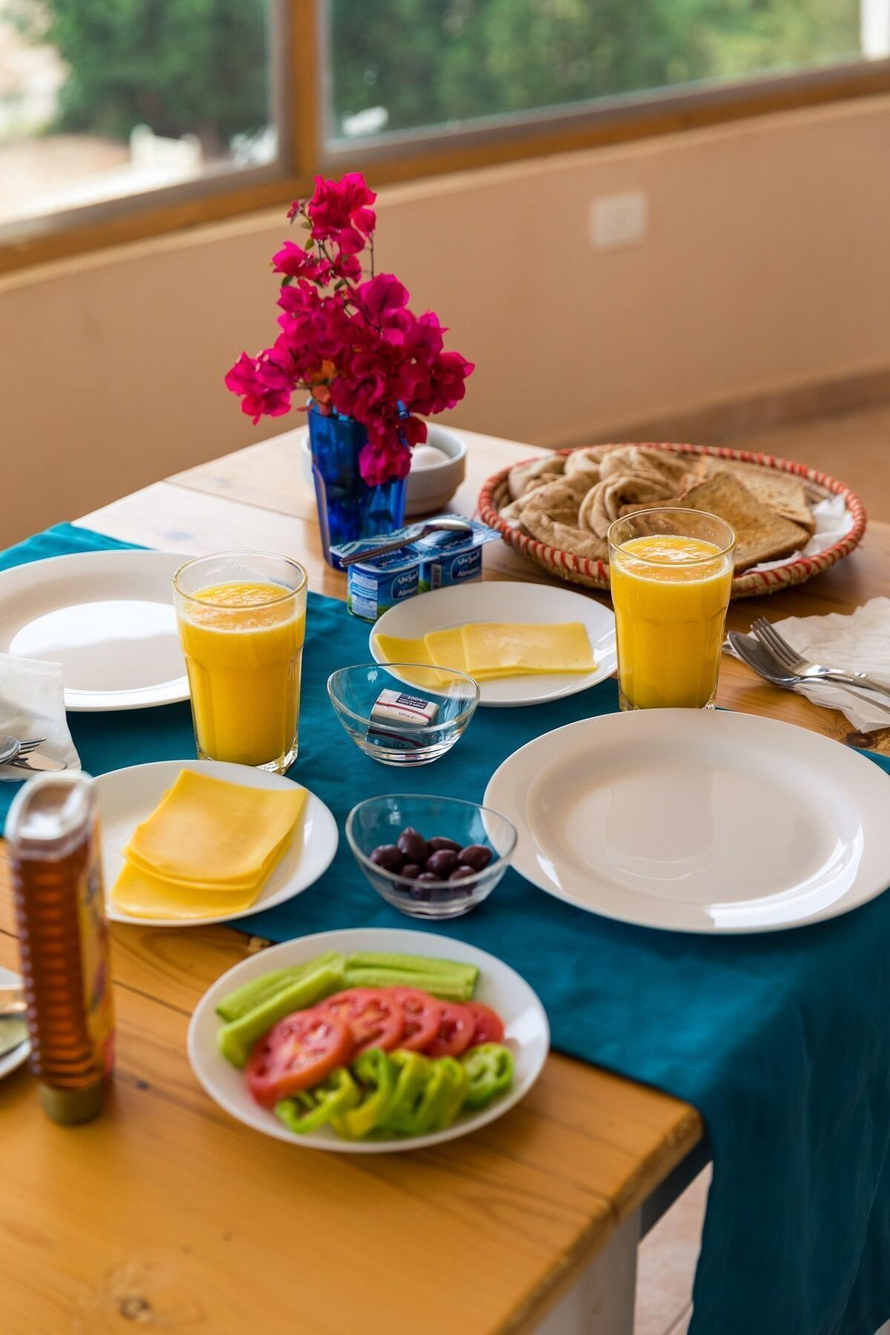glass-normal: (170, 550, 308, 771), (604, 501, 735, 714)
